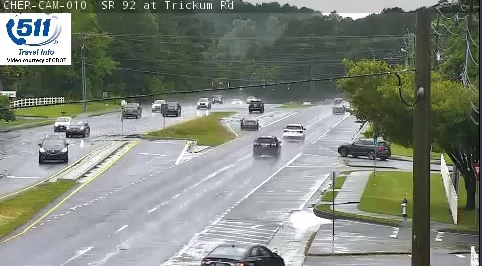car: (253, 135, 280, 156), (282, 124, 305, 140), (241, 116, 259, 130)
